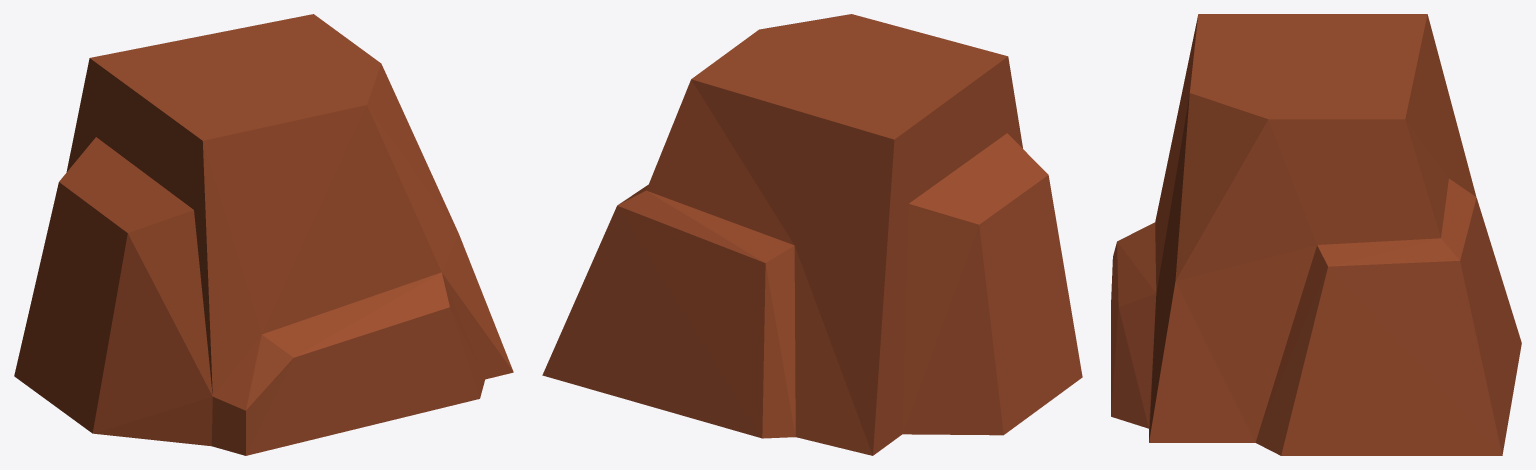
File: ClayA.fbx
The picture shows the model from 3 angles, left to right: view 1: azimuth 30°, elevation 25°; view 2: azimuth 150°, elevation 25°; view 3: azimuth 270°, elevation 25°; orthographic projection.
Visible parts, largest first — view 1: ClayA; view 2: ClayA; view 3: ClayA.
Boxes of the visible parts, <box> form: ClayA: <box>14,14,513,455</box>; ClayA: <box>542,14,1082,455</box>; ClayA: <box>1111,14,1521,455</box>.
Bounding box in the file's own units: 54.2 × 36.27 × 47.01.
